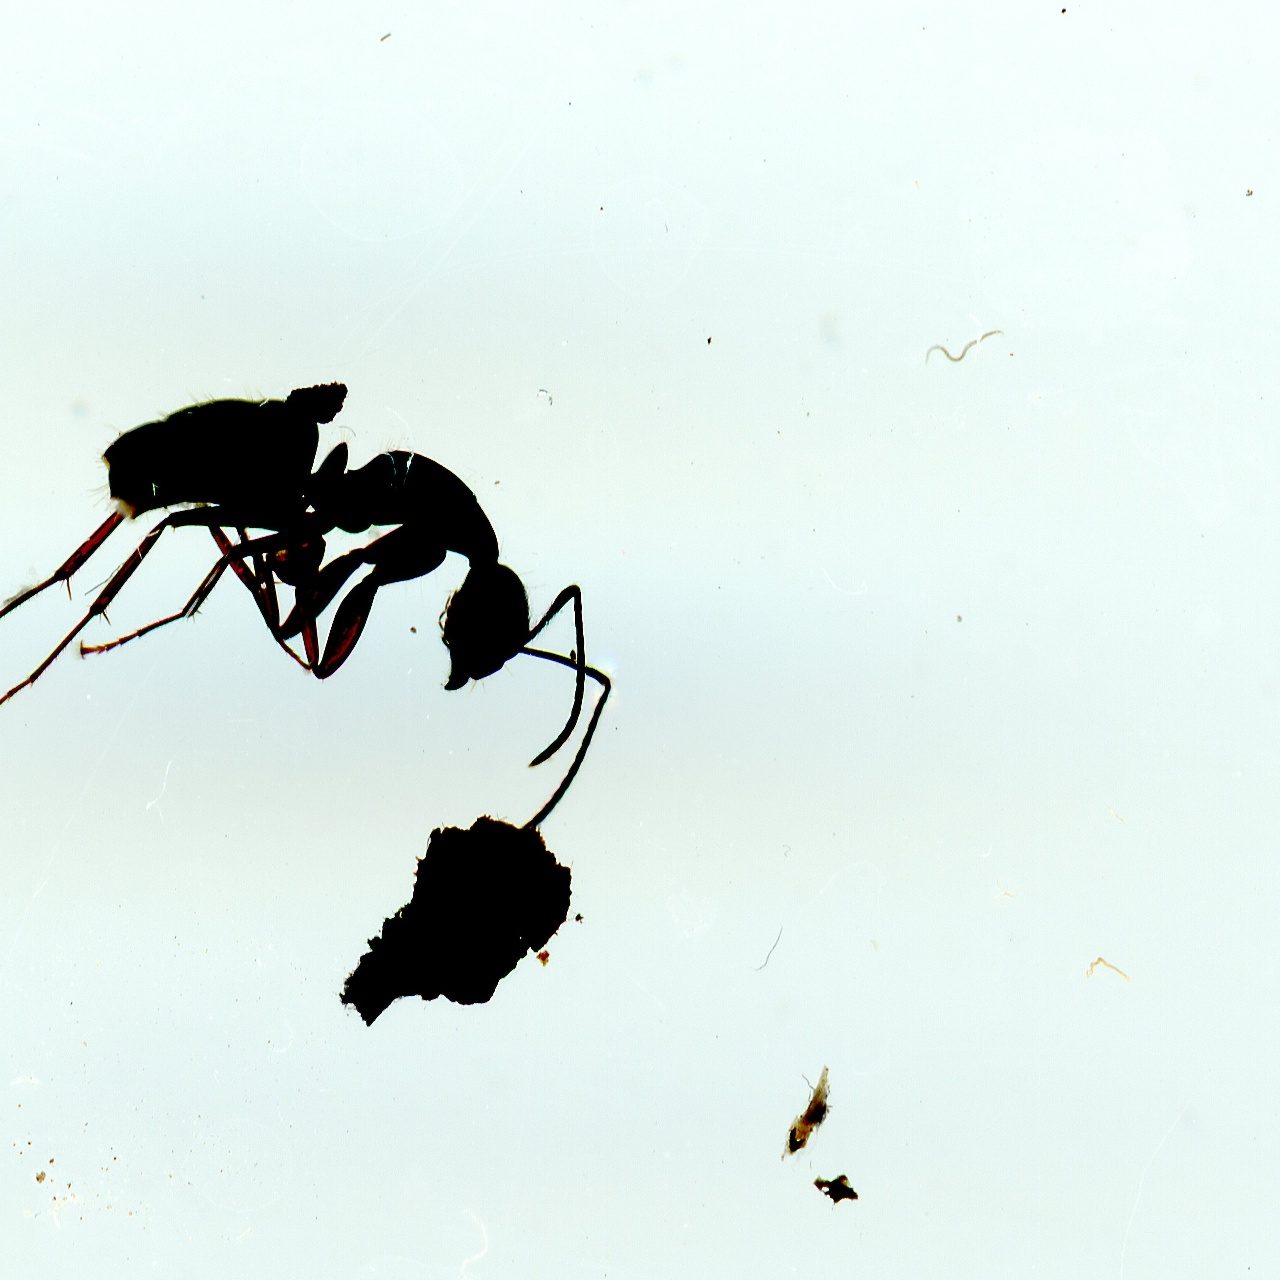arthropod: (0, 367, 621, 829)
